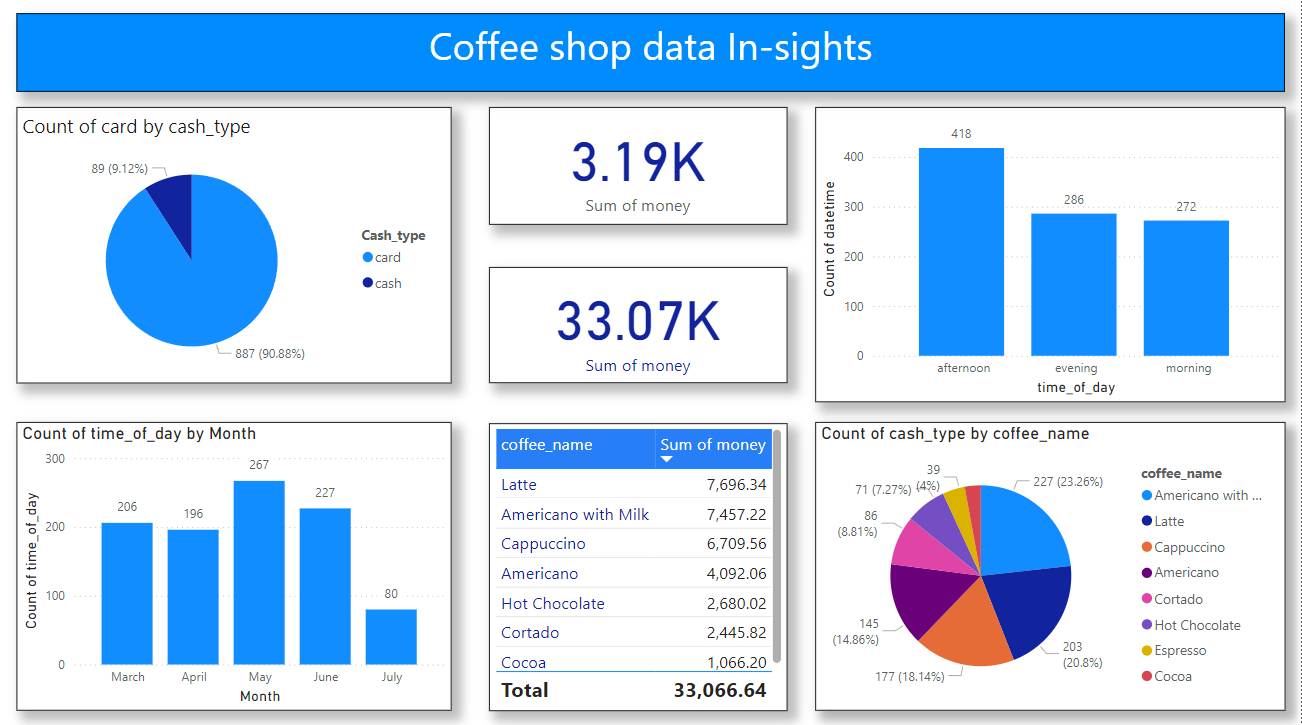

The dashboard page shown, as its layout file describes it:
{"tool":"powerbi","page":{"name":"Page 1","canvas":[1280,720],"ordinal":0},"visuals":[{"type":"pieChart","fields":{"Y":["CountNonNull(updated_index.card)"],"Category":["updated_index.cash_type"]},"box":[22,112.5,425.5,270.2],"z":0},{"type":"tableEx","fields":{"Values":["updated_index.coffee_name","Sum(updated_index.money)"]},"box":[467.1,420.7,309.4,282.5],"z":1000},{"type":"pieChart","fields":{"Category":["updated_index.coffee_name"],"Y":["CountNonNull(updated_index.cash_type)"]},"box":[803.4,420.7,459.8,282.5],"z":2000},{"type":"lineStackedColumnComboChart","fields":{"Y":["CountNonNull(updated_index.time_of_day)"],"Category":["updated_index.datetime.Variation.Date Hierarchy.Year","updated_index.datetime.Variation.Date Hierarchy.Month"]},"box":[22,420.7,425.5,282.5],"z":3000},{"type":"columnChart","fields":{"Category":["updated_index.time_of_day"],"Y":["CountNonNull(updated_index.datetime)"]},"box":[803.4,112.5,459.8,288.6],"z":4000},{"type":"card","title":"sum of money by Cash","fields":{"Values":["Sum(updated_index.money)"]},"box":[484.2,269,292.3,113.7],"z":5000},{"type":"card","fields":{"Values":["Sum(updated_index.money)"]},"box":[484.2,112.5,292.3,116.2],"z":6000},{"type":"textbox","box":[22,20.8,1241.2,77],"z":7000}]}

Visuals, with their boxes in screenshot pixels (x1, y1, x2, y2), scaled from the page's 1280x720 canvas onto the 1302x725 screenshot:
pieChart - CountNonNull(updated_index.card) x updated_index.cash_type: [22,113,455,385]
tableEx - updated_index.coffee_name x Sum(updated_index.money): [475,424,790,708]
pieChart - updated_index.coffee_name x CountNonNull(updated_index.cash_type): [817,424,1285,708]
lineStackedColumnComboChart - CountNonNull(updated_index.time_of_day) x updated_index.datetime.Variation.Date Hierarchy.Year: [22,424,455,708]
columnChart - updated_index.time_of_day x CountNonNull(updated_index.datetime): [817,113,1285,404]
"sum of money by Cash" card: [493,271,790,385]
card - Sum(updated_index.money): [493,113,790,230]
textbox: [22,21,1285,98]
